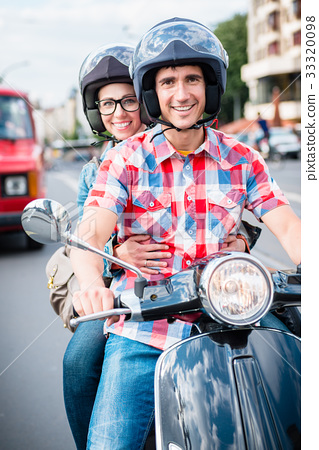helmet: (134, 27, 230, 111), (71, 48, 143, 118)
